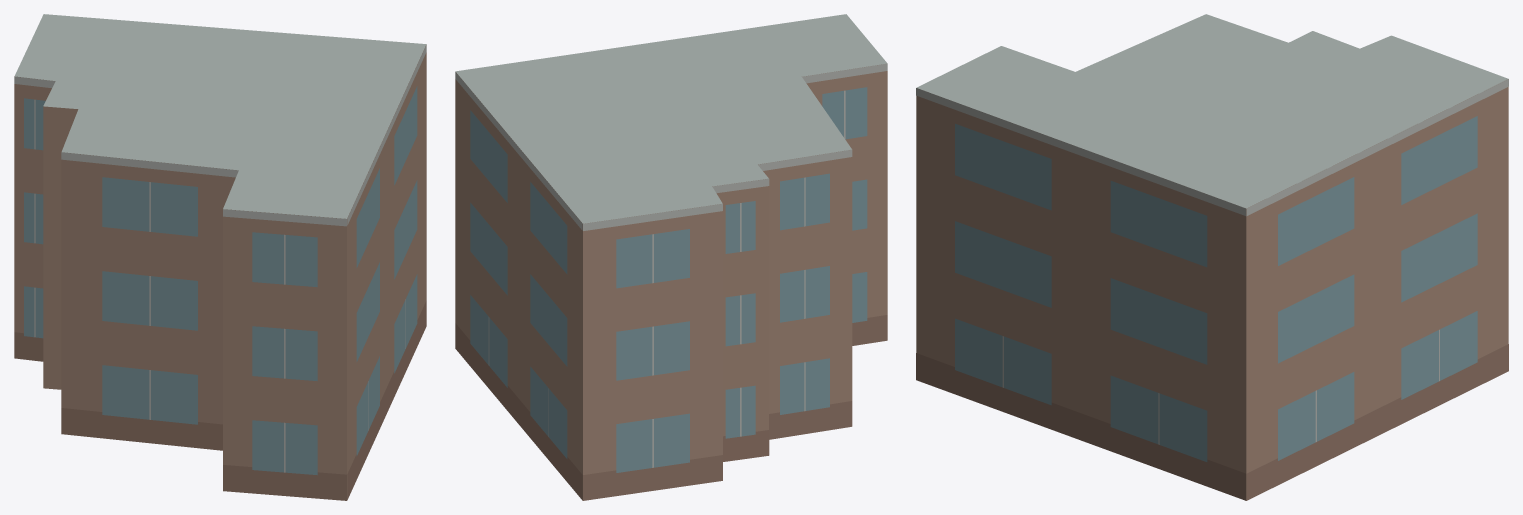
File: survey-upis-32961590.glb
3 views of the same model, side by side, from view 1: azimuth 30°, elevation 25°; view 2: azimuth 150°, elevation 25°; view 3: azimuth 270°, elevation 25° (orthographic). The views are drawn at different scales.
Visible parts, largest first — view 1: survey-upis-32961590.tmp; view 2: survey-upis-32961590.tmp; view 3: survey-upis-32961590.tmp.
Part boxes in pixels (x1,y1,x2,y2): survey-upis-32961590.tmp: [14, 14, 426, 500]; survey-upis-32961590.tmp: [455, 14, 887, 500]; survey-upis-32961590.tmp: [916, 14, 1508, 500].
Bounding box in the file's own units: 13.07 × 9.15 × 16.82.
